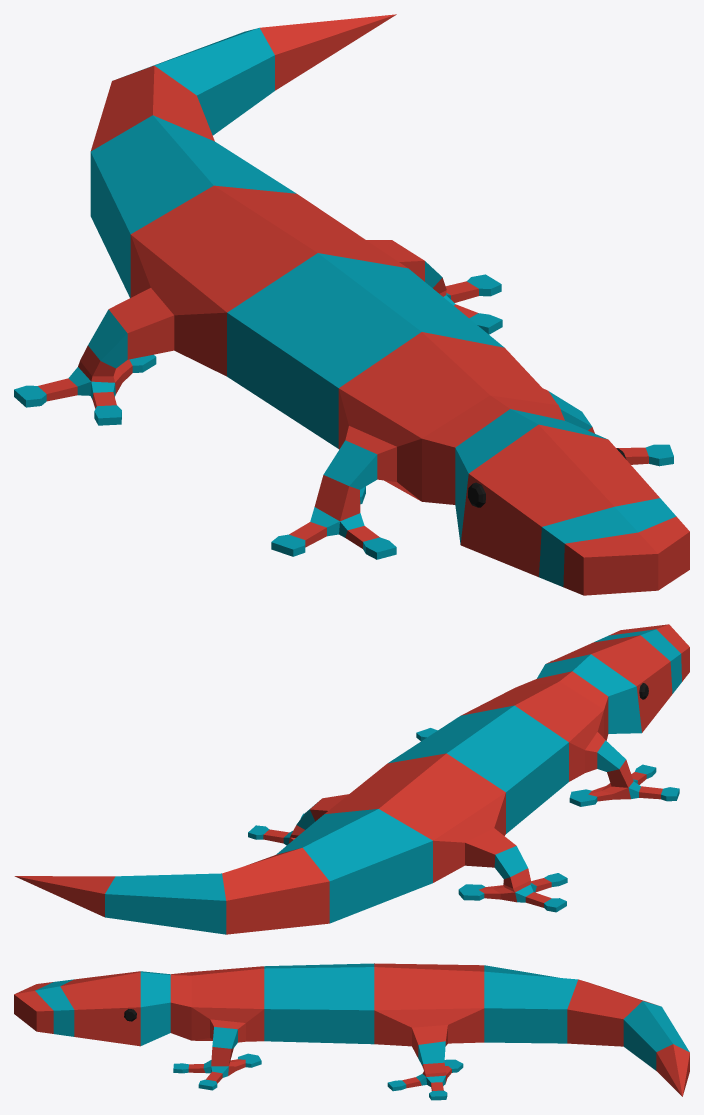
Rendered from Gecko_01.fbx.
3 renders of one model, top to bottom at view 1: azimuth 30°, elevation 25°; view 2: azimuth 150°, elevation 25°; view 3: azimuth 270°, elevation 25°, orthographic. The views are drawn at different scales.
Parts seen in each view (by area): view 1: Gecko_01; view 2: Gecko_01; view 3: Gecko_01.
Part boxes in pixels (x1=…): Gecko_01: x1=14, y1=14, x2=689, y2=595; Gecko_01: x1=14, y1=624, x2=689, y2=934; Gecko_01: x1=14, y1=963, x2=689, y2=1100.
Size of the model in its own units: 3.94 by 0.841 by 7.16.
